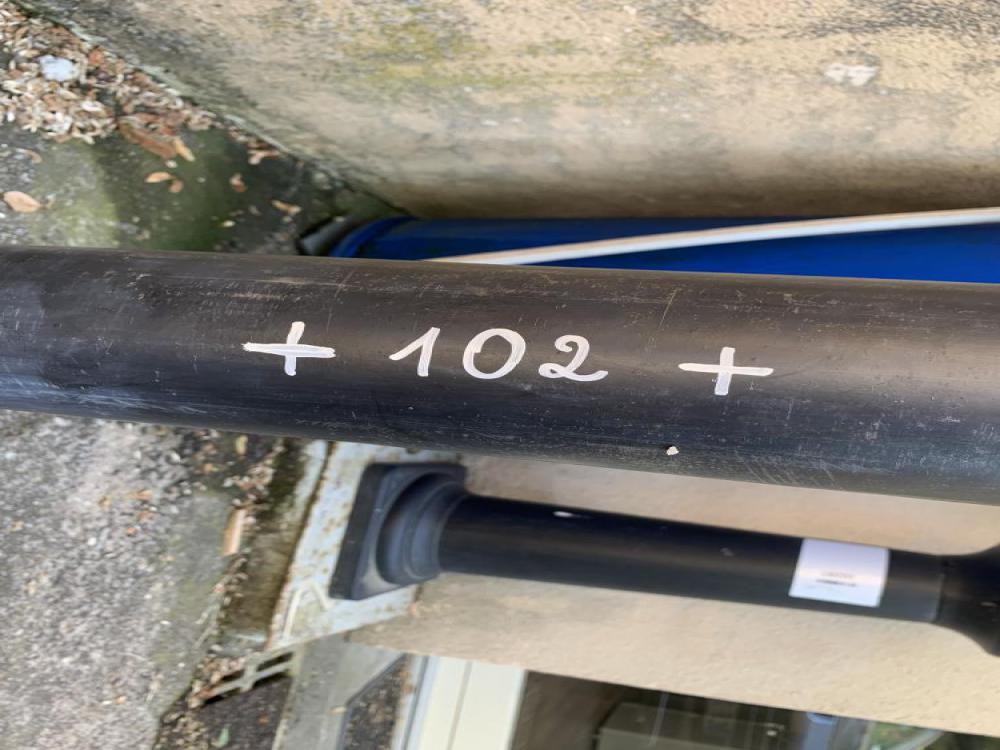+: (245, 323, 335, 377), (680, 347, 772, 394)
0: (462, 328, 526, 380)
1: (388, 326, 443, 376)
2: (538, 335, 608, 382)
